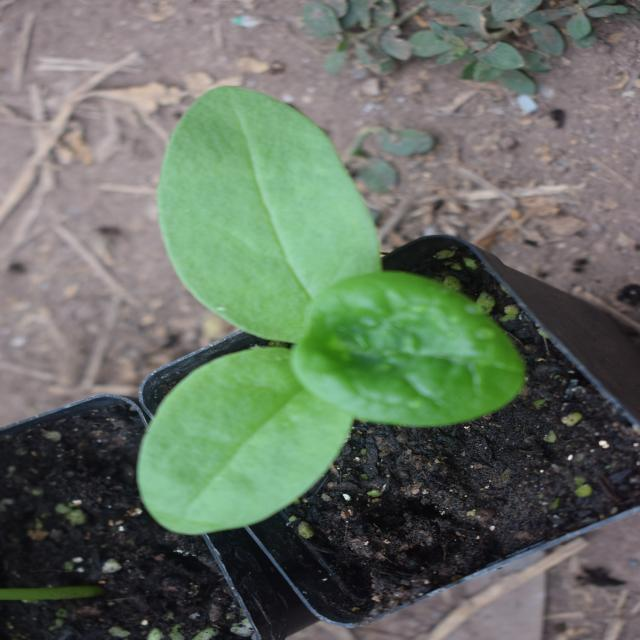Ceylon spinach: (100, 101, 542, 529)
